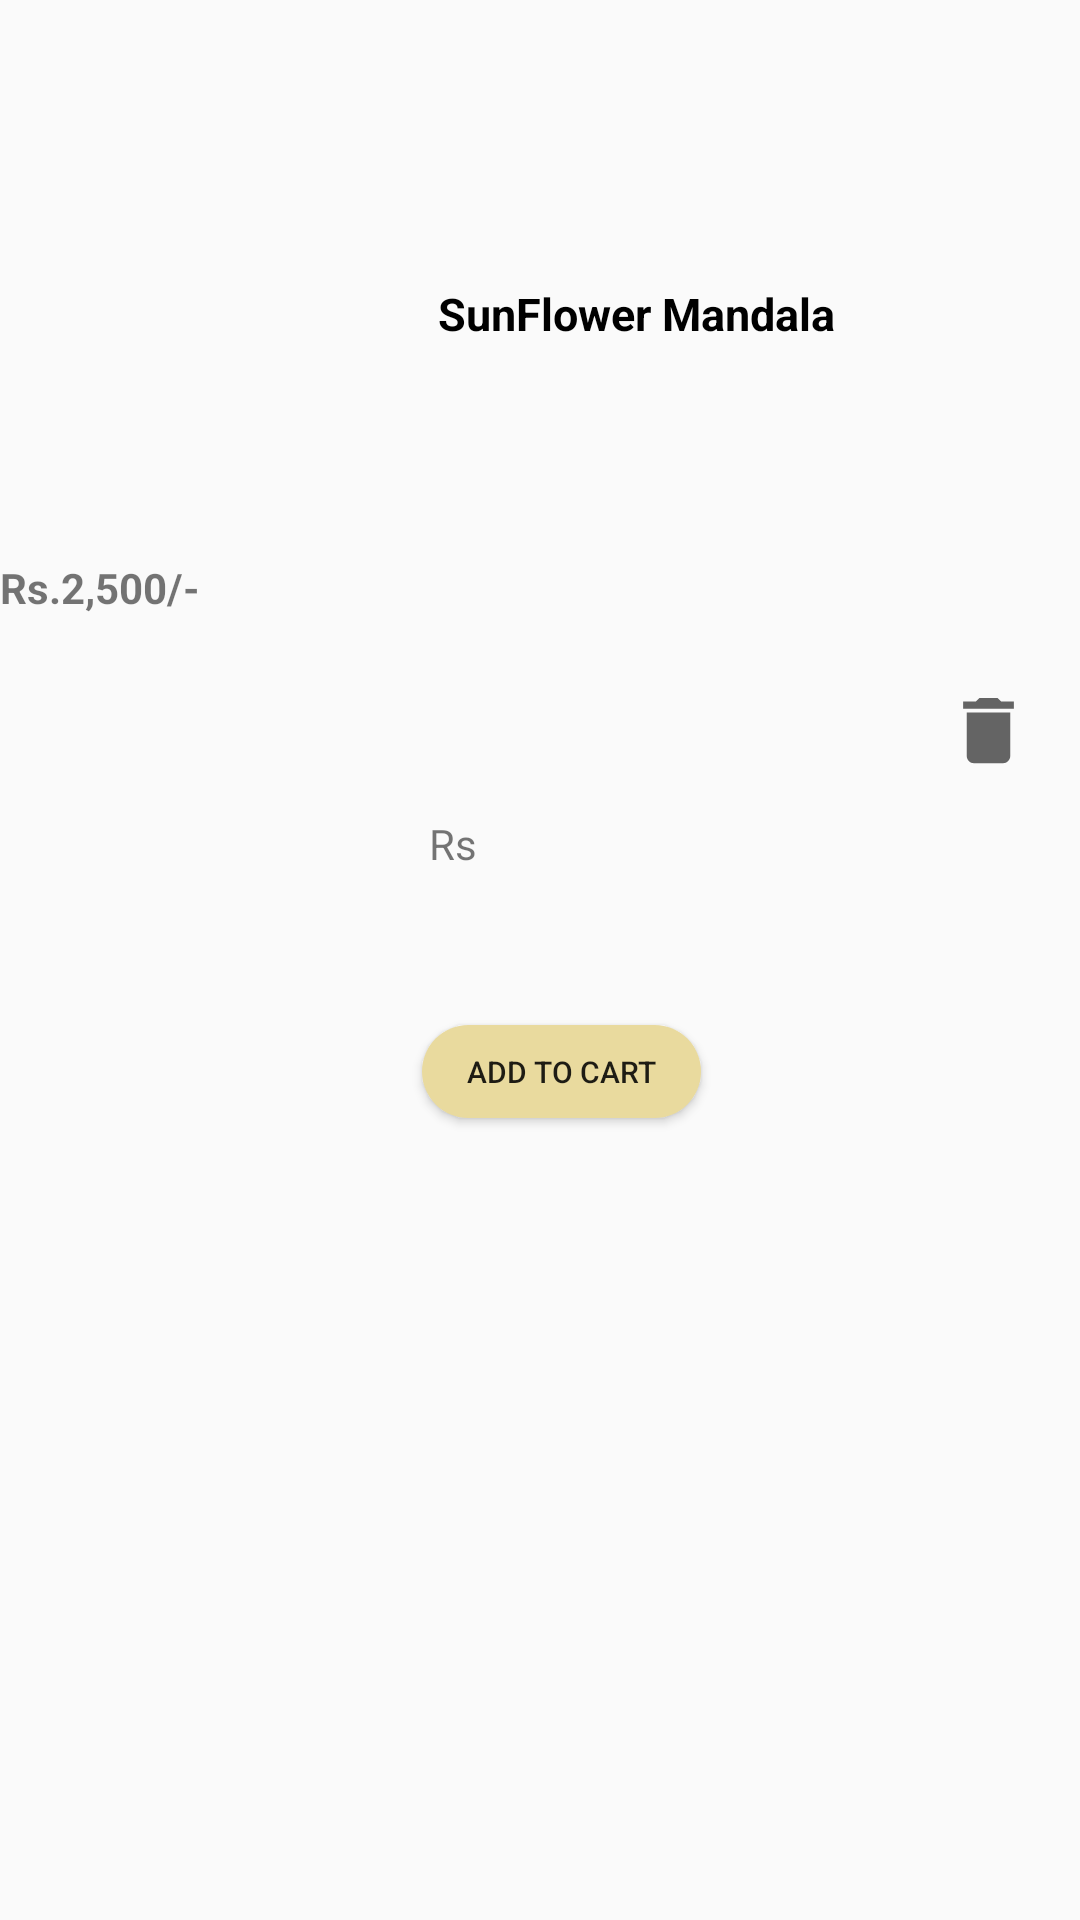

Where to tap for icons on this 1080w x 1920h app screen, as (x,y):
delete: (988,731)
